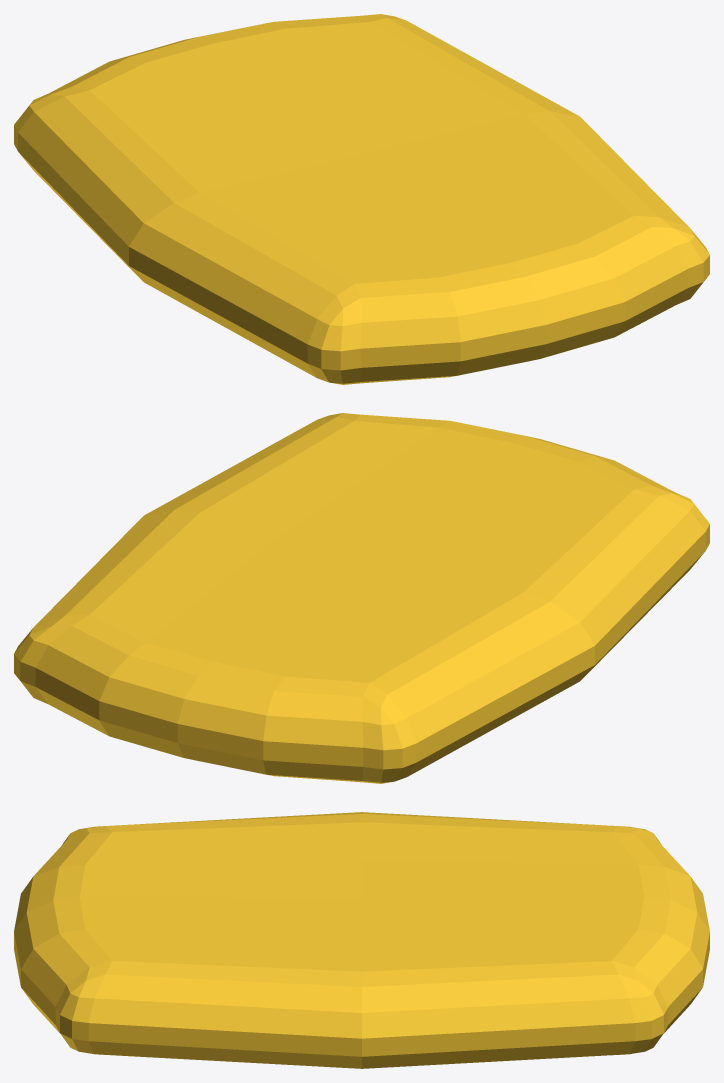
File: Pillow_14.fbx
The picture shows the model from 3 angles, top to bottom: view 1: azimuth 30°, elevation 25°; view 2: azimuth 150°, elevation 25°; view 3: azimuth 270°, elevation 25°; orthographic projection. The views are drawn at different scales.
Parts seen in each view (by area): view 1: Pillow_14; view 2: Pillow_14; view 3: Pillow_14.
Boxes of the visible parts, x1,y1,x2,y2 form: Pillow_14: (14,14,709,384); Pillow_14: (14,413,709,783); Pillow_14: (14,812,709,1068).
Size of the model in its own units: 0.4956 by 0.0946 by 0.6793.
